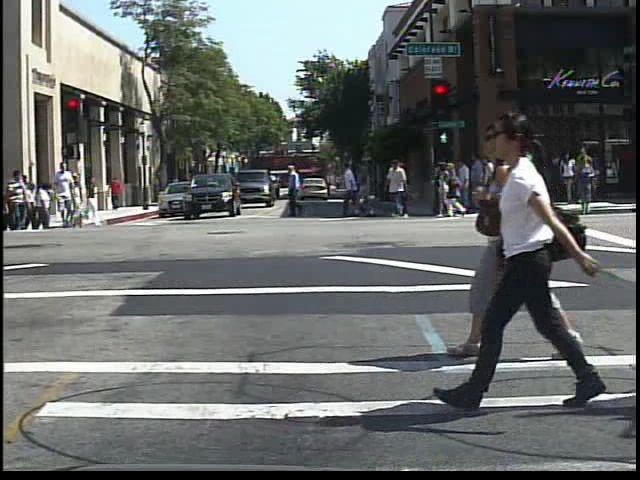person: (476, 103, 584, 415), (443, 113, 528, 354), (515, 143, 548, 213), (51, 162, 79, 230), (7, 165, 31, 233), (107, 175, 127, 213), (168, 171, 186, 203)
